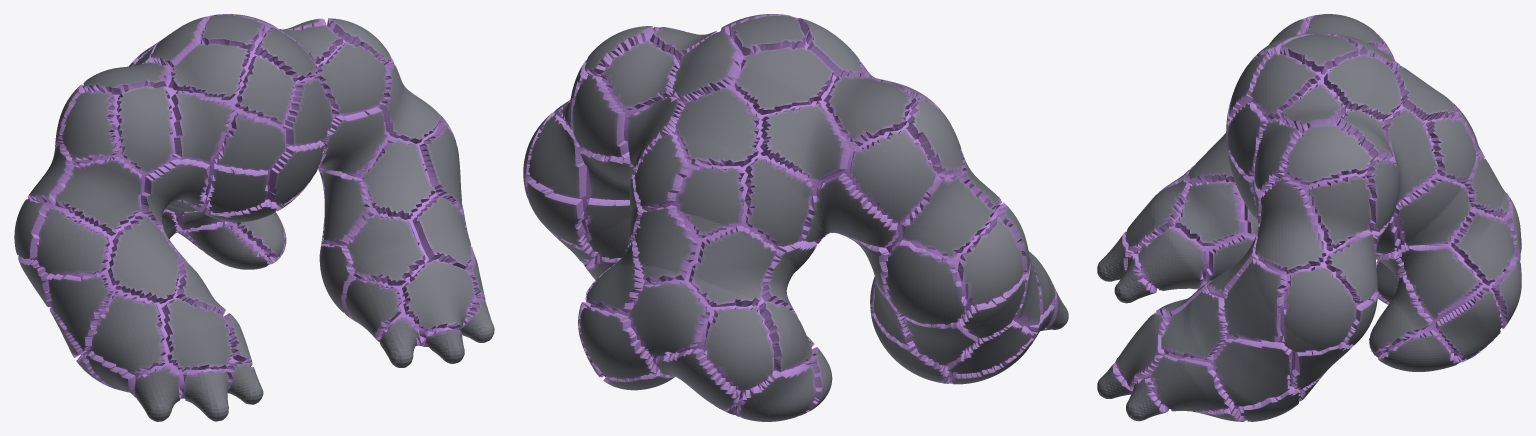
The model's file is golem_plated.glb.
The picture shows the model from 3 angles, left to right: view 1: azimuth 30°, elevation 25°; view 2: azimuth 150°, elevation 25°; view 3: azimuth 270°, elevation 25°; orthographic projection. The views are drawn at different scales.
Parts seen in each view (by area): view 1: world; view 2: world; view 3: world.
Part boxes in pixels (x1,y1,x2,y2): world: (14, 14, 494, 421); world: (523, 14, 1068, 421); world: (1097, 14, 1521, 421).
Size of the model in its own units: 4.27 by 2.88 by 3.61.
